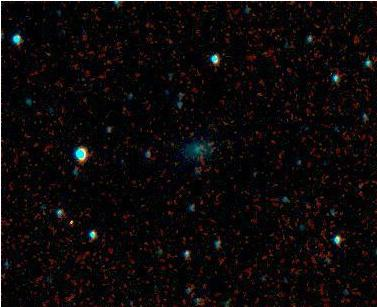star: (190, 124, 220, 154)
